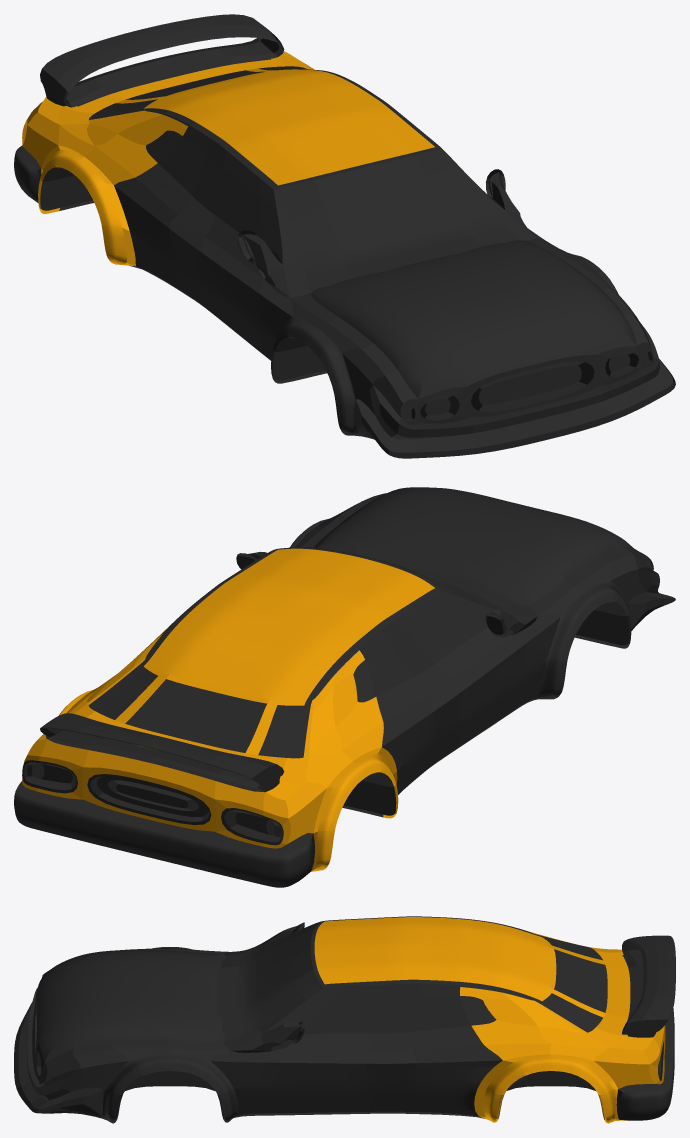
File: FantaCup.glb
3 renders of one model, top to bottom at view 1: azimuth 30°, elevation 25°; view 2: azimuth 150°, elevation 25°; view 3: azimuth 270°, elevation 25°, orthographic. The views are drawn at different scales.
Parts seen in each view (by area): view 1: Car; view 2: Car; view 3: Car.
Part boxes in pixels (x1,y1,x2,y2): Car: (14,14,675,458); Car: (14,487,675,887); Car: (14,916,675,1123).
Size of the model in its own units: 4.37 by 2.21 by 10.44.
